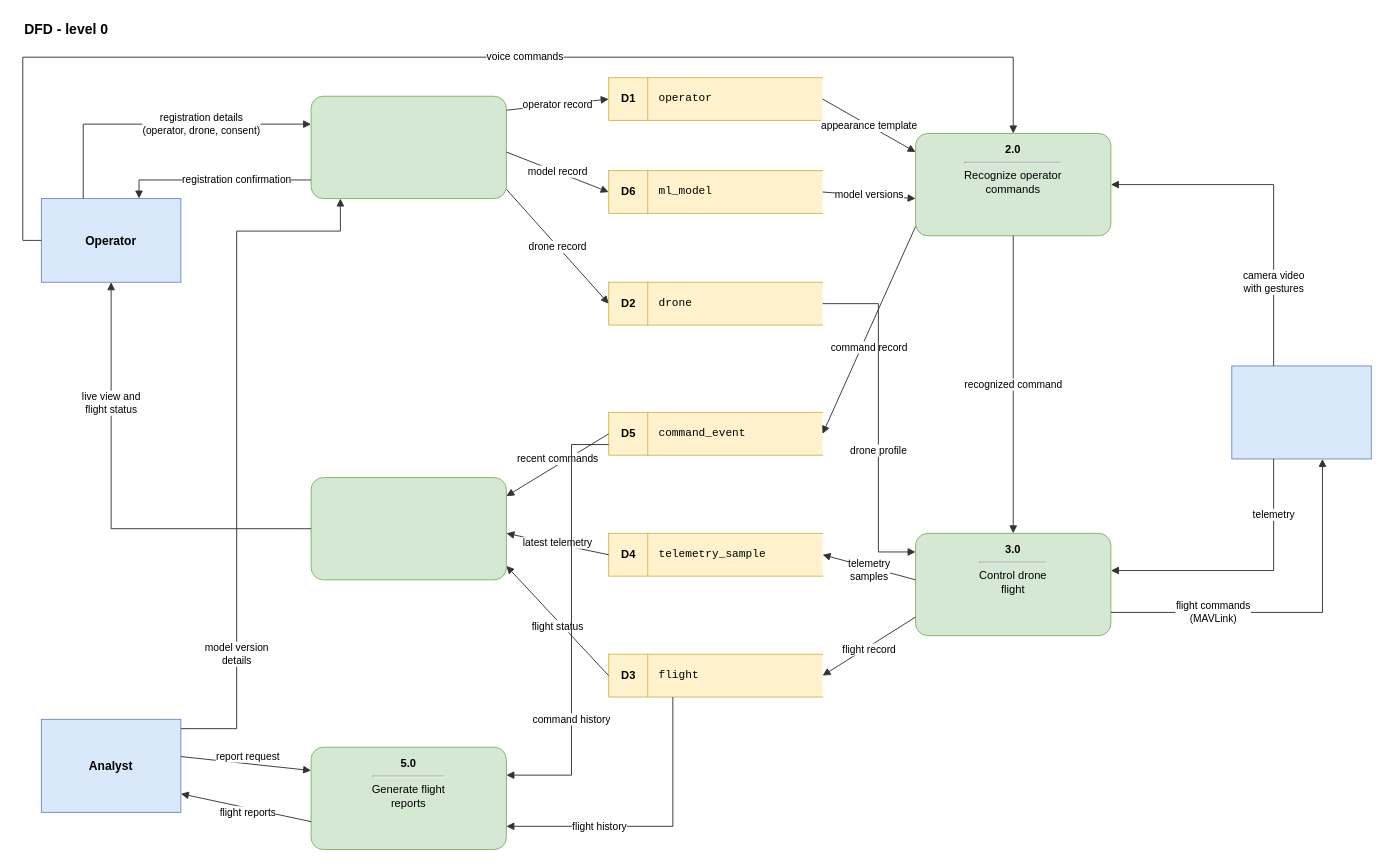
Image size: 1388x866. Some labels were removed from this diagram. Each missing label, with the centre of its shape:
1.0 Register operators, drones and models: the point at 408,147
4.0 Monitor flight: the point at 408,528
Drone (flight controller + camera): the point at 1301,412
